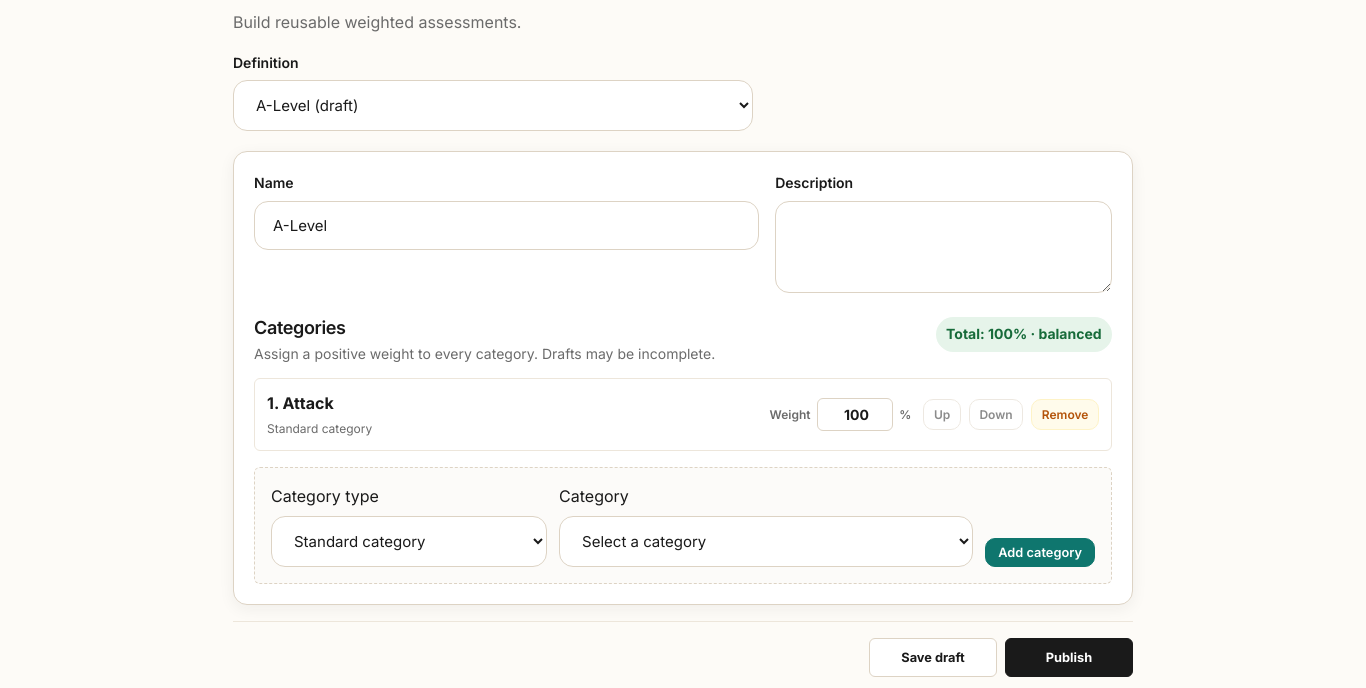
AssessmentDefinitions › clears the confirmation when another definition is selected
This screenshot has width=1366, height=688.
(page scrolled)
Click the button "Publish" at [1069, 657], box [1005,638,1133,677]
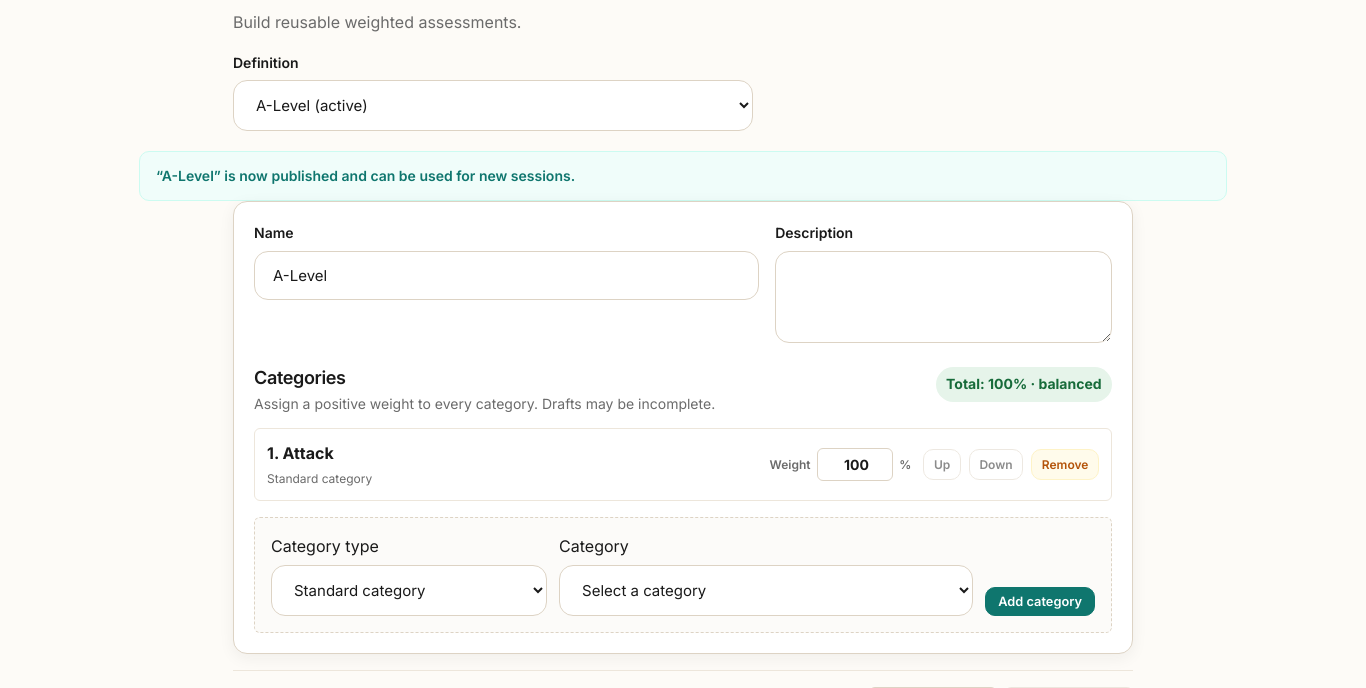
Now the message "“A-Level” is now published and can be used for new sessions." is shown, box [139,151,1227,201]
Select "B-Level (draft)" in the dropdown named "Assessment definition" at [493, 106], box [233,80,753,131]
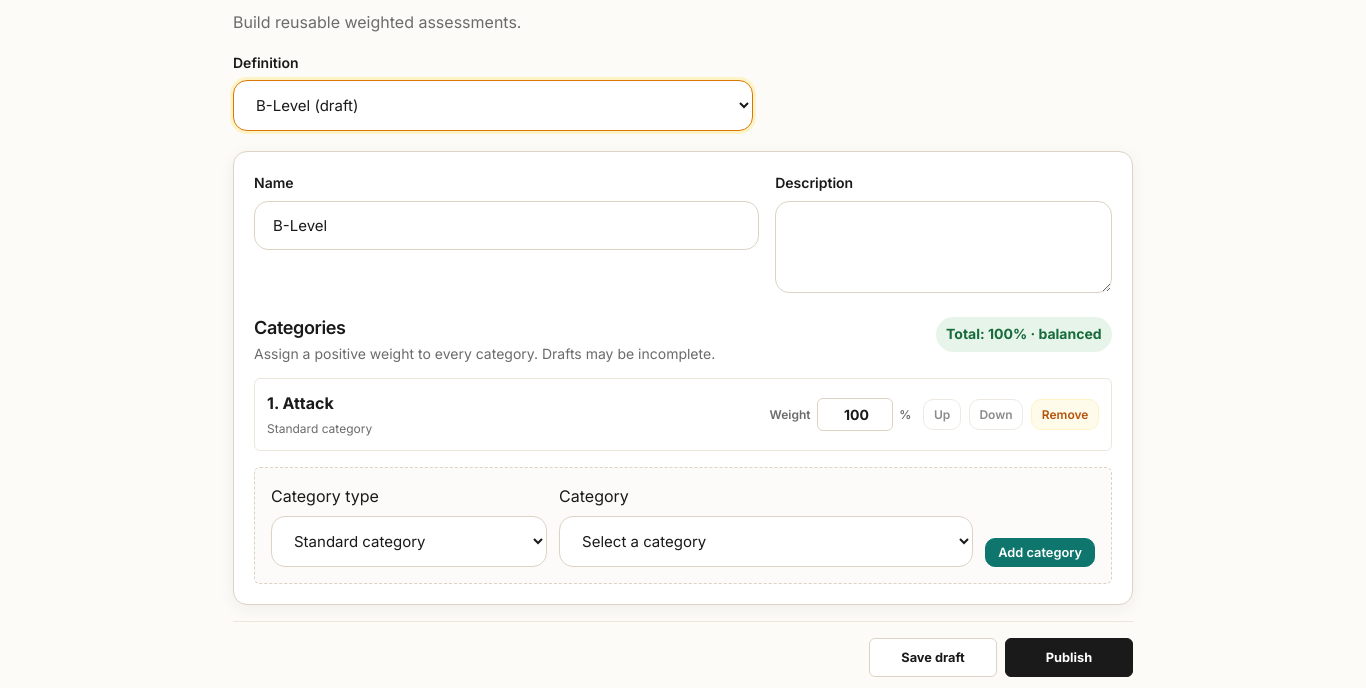
Now the message "“A-Level” is now published and can be used for new sessions." is gone
